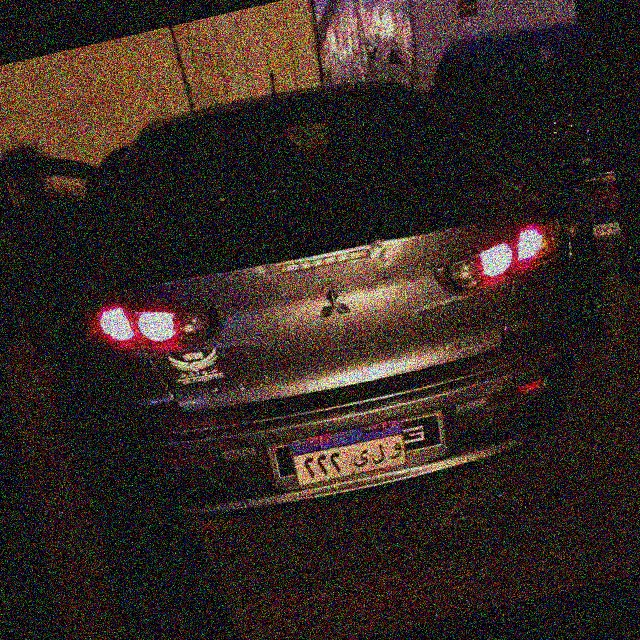License Plate: (286, 414, 410, 491)
